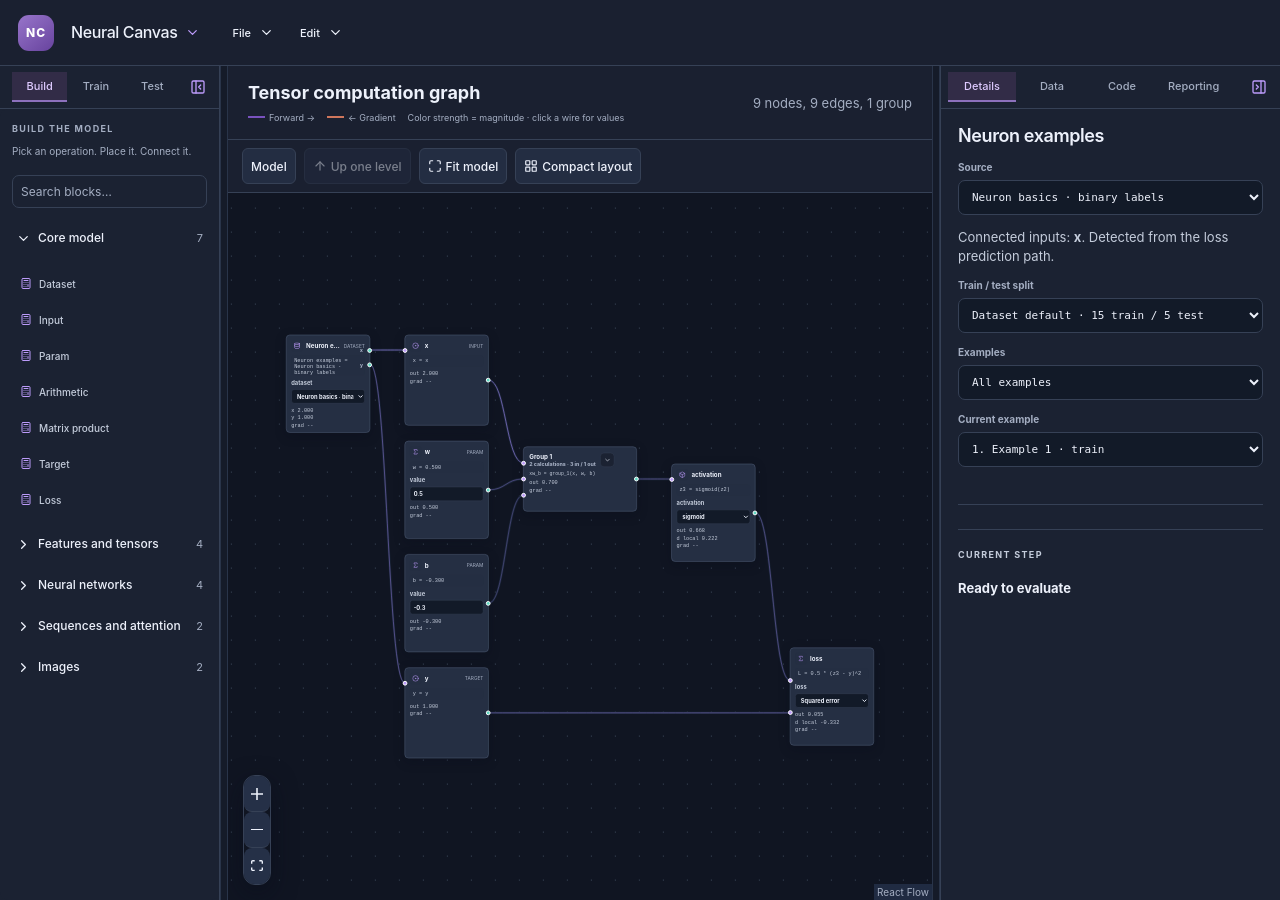
downloadable model library › lets a student name a custom group from its context menu and shows the name in code
This screenshot has width=1280, height=900.
Right-click the element with class "react-flow__node" that starts with "Group 1": (580, 479) top-left (523, 446), bottom-right (637, 512)
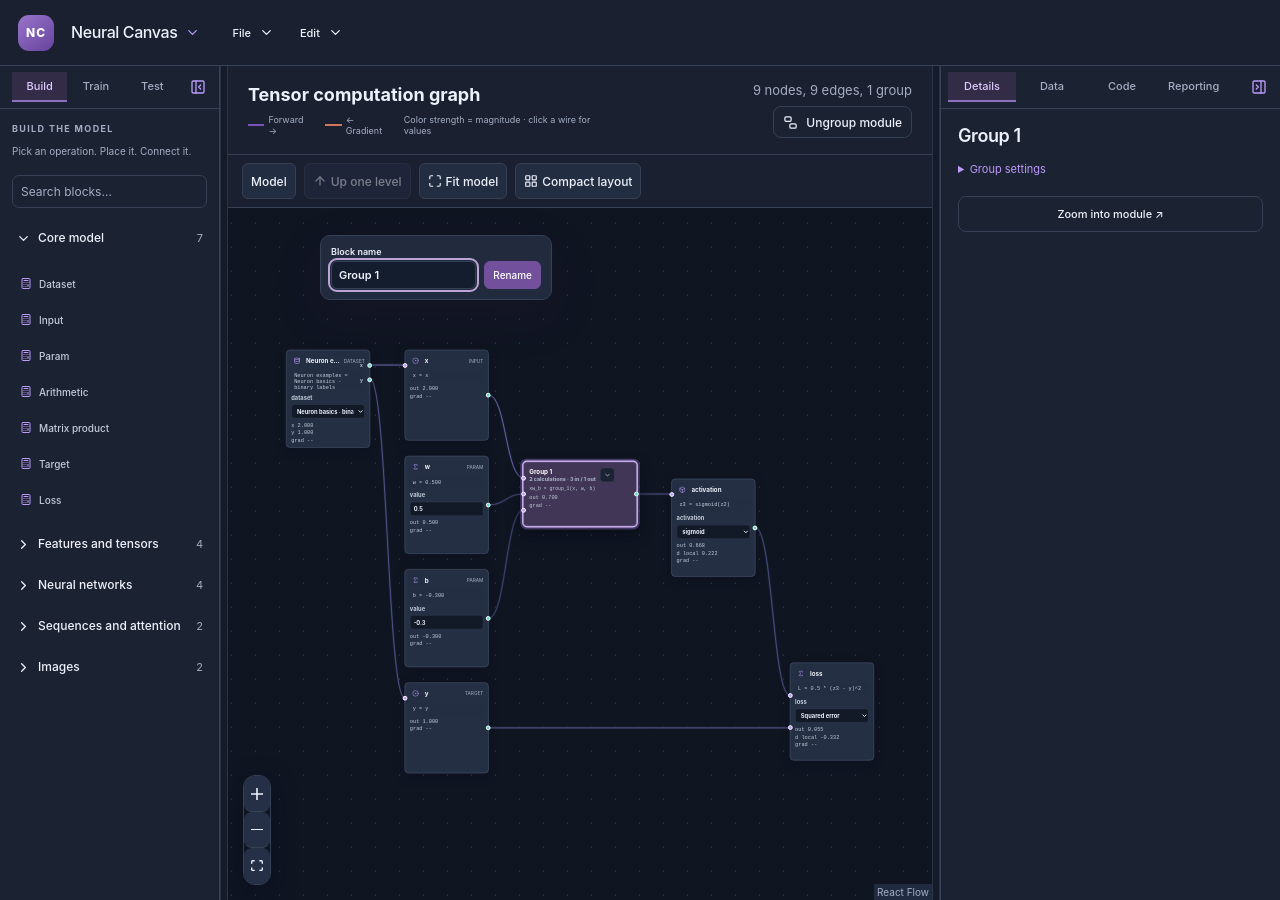
expect the dialog named "Name block group" is shown: met, box top-left (320, 235), bottom-right (552, 300)
Replace the text in the field named "Group name" with "func": (404, 275) top-left (331, 261), bottom-right (476, 289)
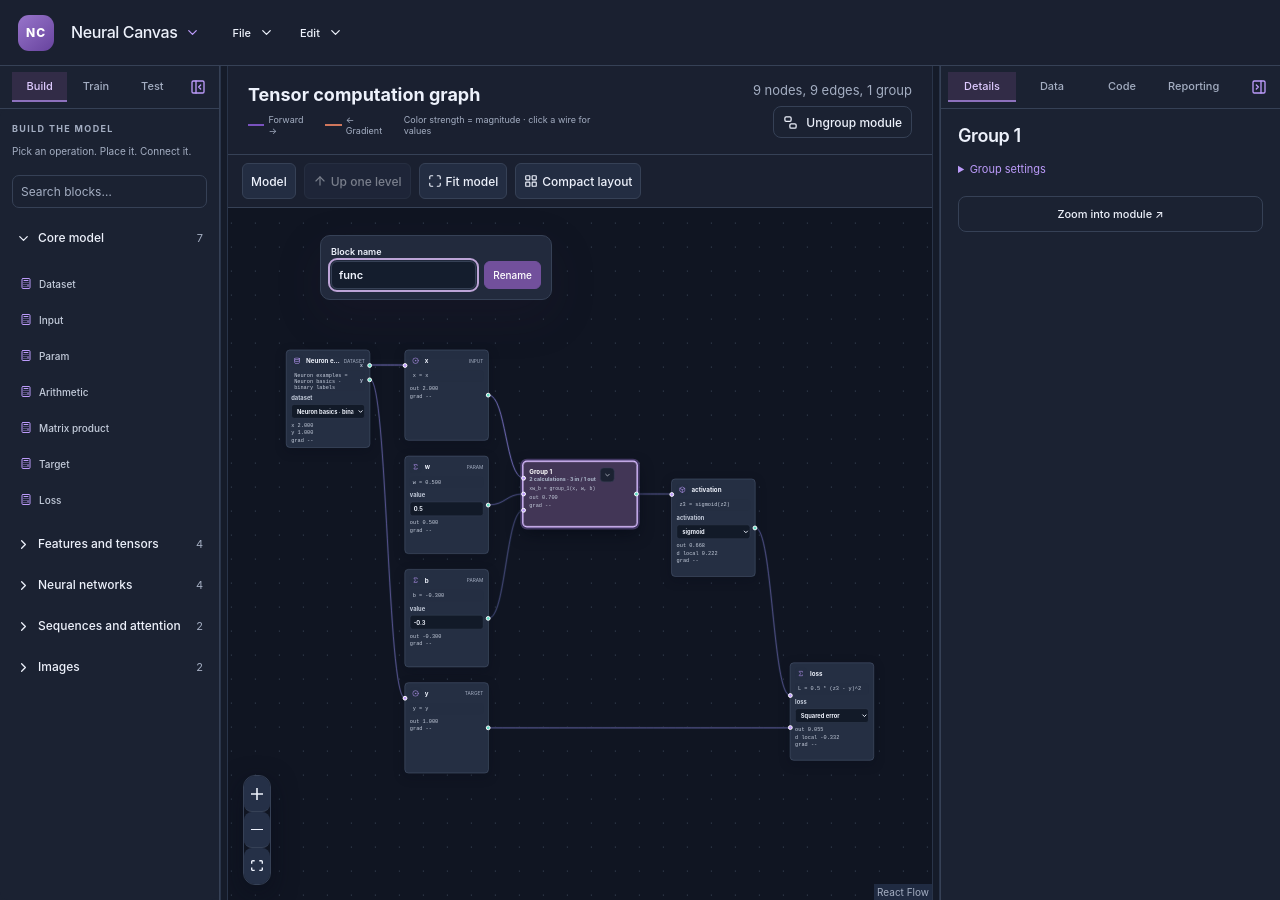
Click the button "Rename": (513, 275) top-left (484, 261), bottom-right (541, 289)
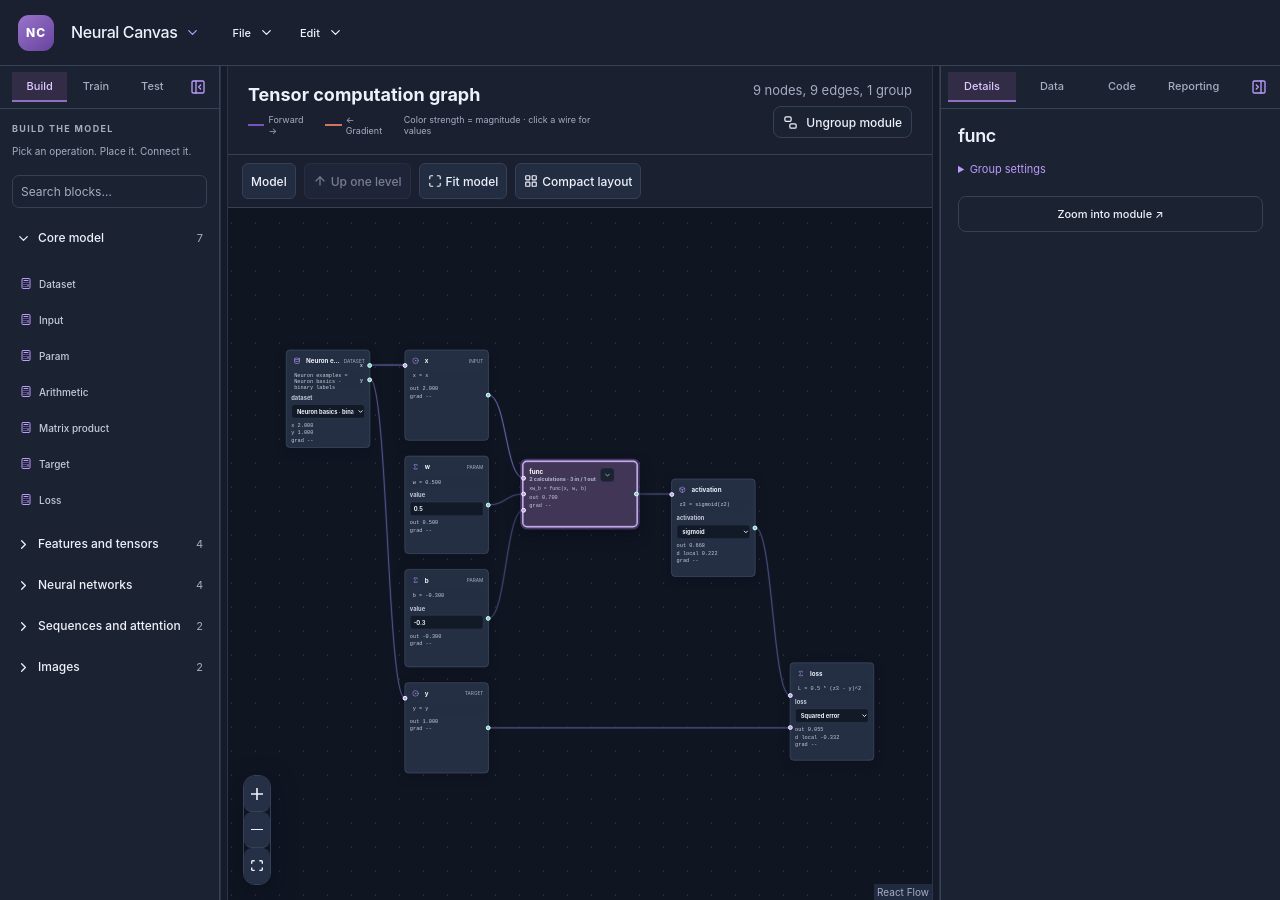
Click the tab "Code": (1122, 87) top-left (1088, 72), bottom-right (1156, 102)
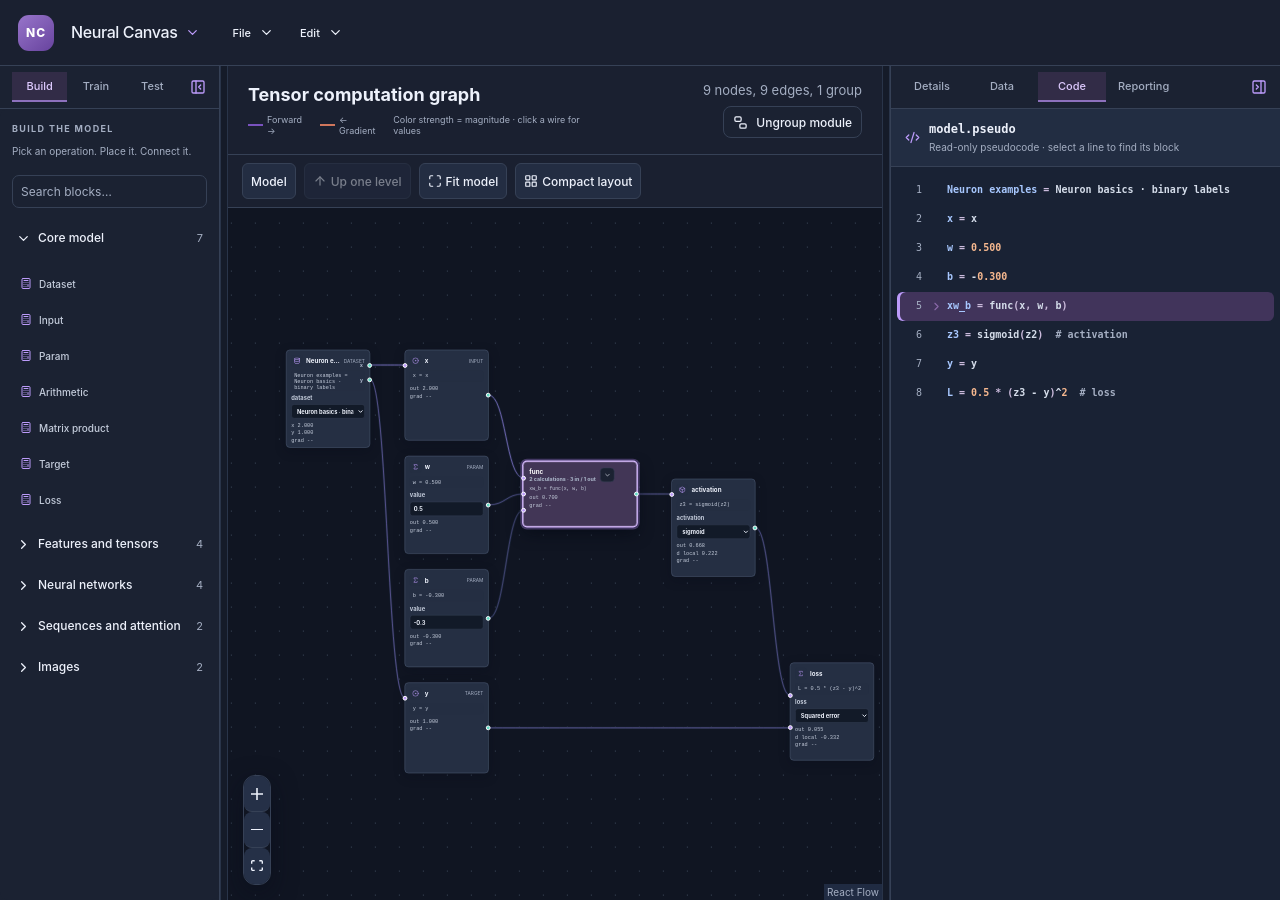
expect the button "xw_b = func(x, w, b)" is shown: met, box top-left (945, 292), bottom-right (1274, 320)
